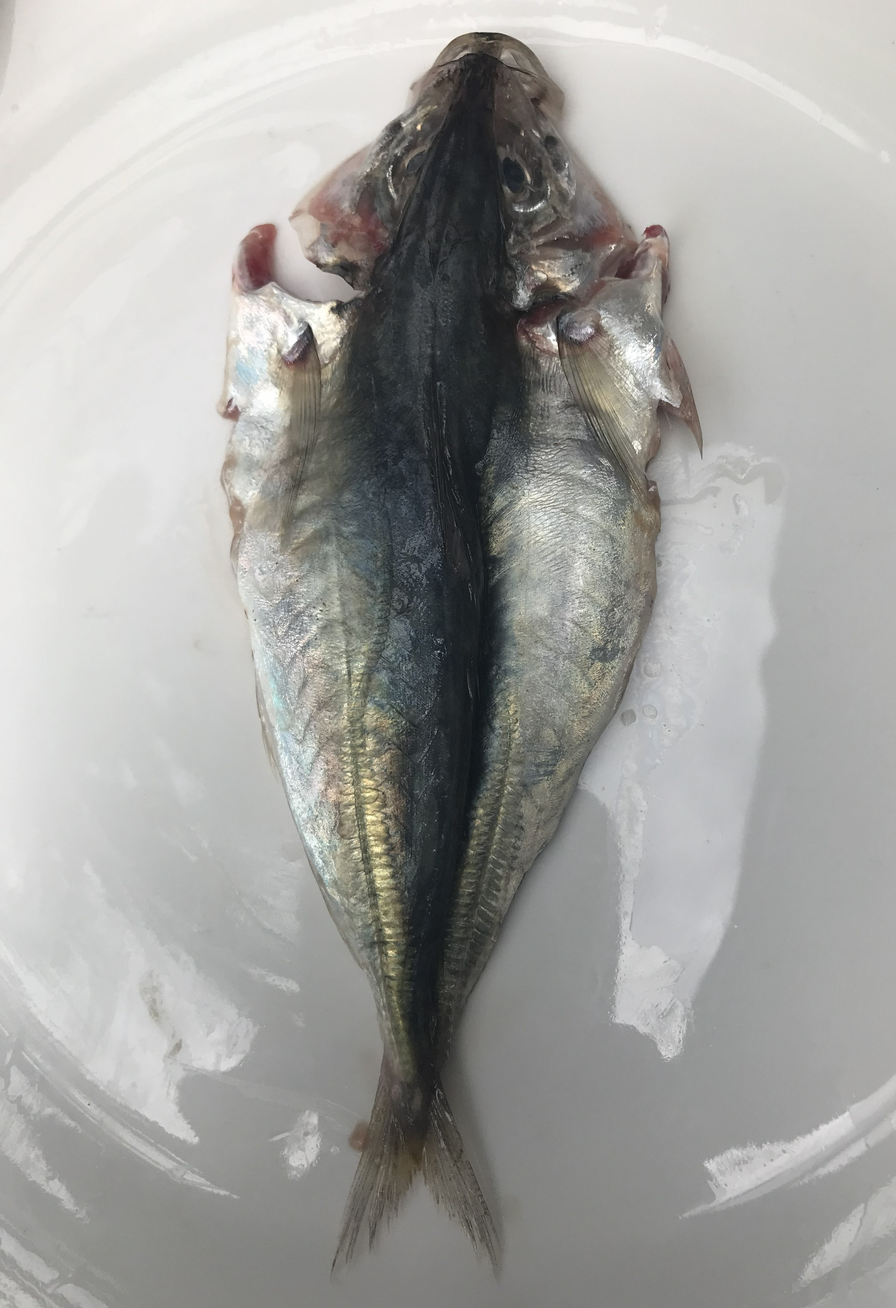barol_not_dried: (0, 32, 874, 1308), (233, 224, 324, 304), (229, 498, 245, 552)
